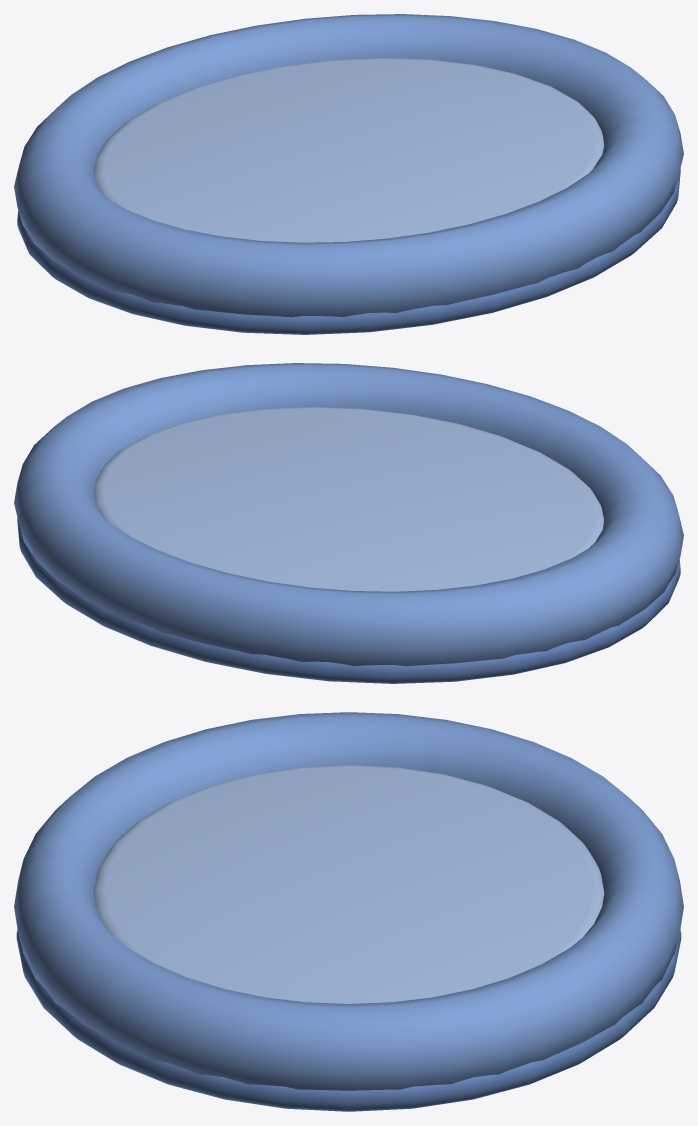
The model's file is dog_bed.glb.
3 views of the same model, one above another, from view 1: azimuth 30°, elevation 25°; view 2: azimuth 150°, elevation 25°; view 3: azimuth 270°, elevation 25° (orthographic). The views are drawn at different scales.
Parts seen in each view (by area): view 1: dog_bed_rim, dog_bed_cushion, dog_bed_base; view 2: dog_bed_rim, dog_bed_cushion, dog_bed_base; view 3: dog_bed_rim, dog_bed_cushion, dog_bed_base.
Part boxes in pixels (left/top/right/bottom): dog_bed_rim: left=14, top=14, right=683, bottom=317; dog_bed_cushion: left=94, top=58, right=603, bottom=242; dog_bed_base: left=17, top=169, right=680, bottom=334; dog_bed_rim: left=14, top=363, right=683, bottom=666; dog_bed_cushion: left=94, top=407, right=603, bottom=591; dog_bed_base: left=17, top=518, right=680, bottom=683; dog_bed_rim: left=14, top=712, right=683, bottom=1090; dog_bed_cushion: left=93, top=765, right=604, bottom=1003; dog_bed_base: left=16, top=930, right=681, bottom=1111.
Size of the model in its own units: 1.21 by 0.15 by 1.03.
